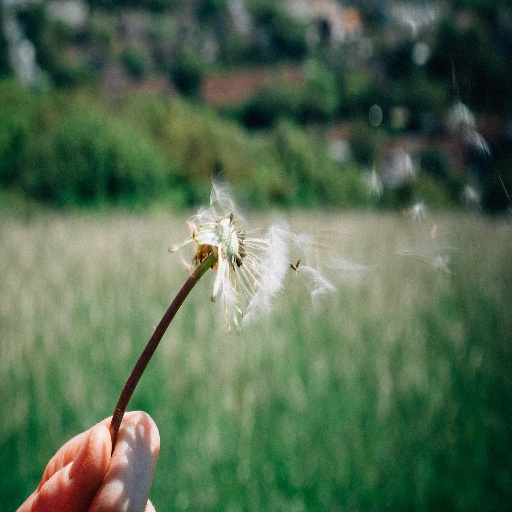hand: (18, 412, 163, 510)
